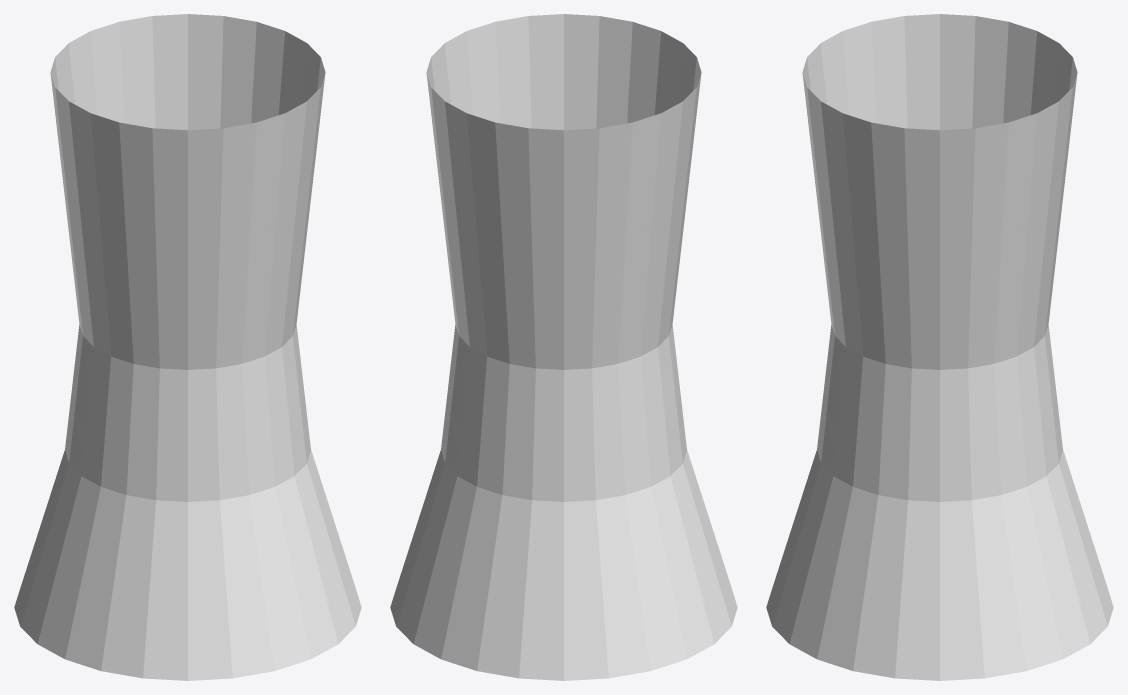
3 views of the same model, side by side, from view 1: azimuth 30°, elevation 25°; view 2: azimuth 150°, elevation 25°; view 3: azimuth 270°, elevation 25° (orthographic).
Bounding box in the file's own units: 0.48 × 0.816 × 0.48.
1 material, 1 textured.
